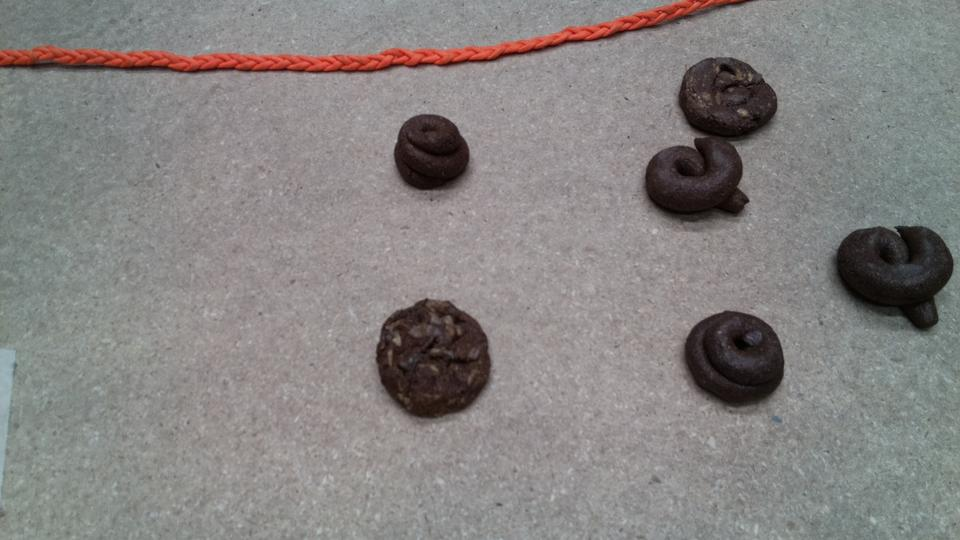poop: (1, 37, 466, 79), (377, 288, 497, 423), (826, 219, 955, 334), (638, 132, 763, 234), (682, 307, 793, 408), (667, 50, 787, 138), (371, 113, 493, 195)
rope: (450, 17, 669, 82), (663, 51, 796, 136), (385, 112, 482, 193), (379, 117, 484, 191), (618, 1, 738, 40)
